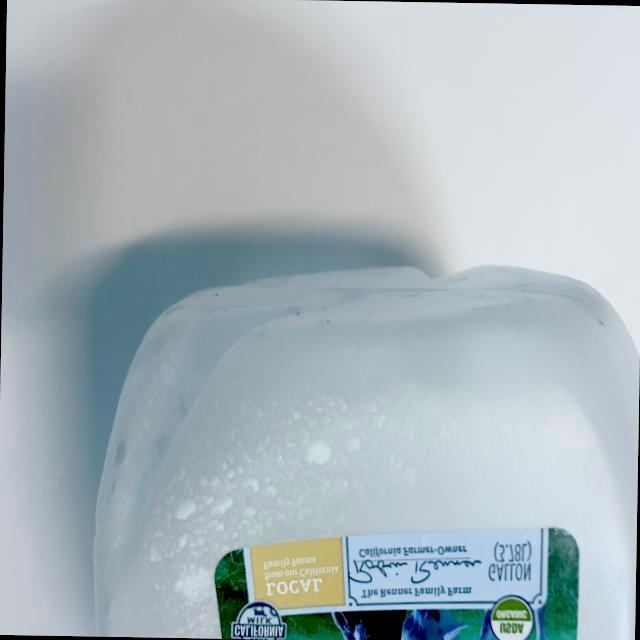plastic: (57, 198, 640, 640)
